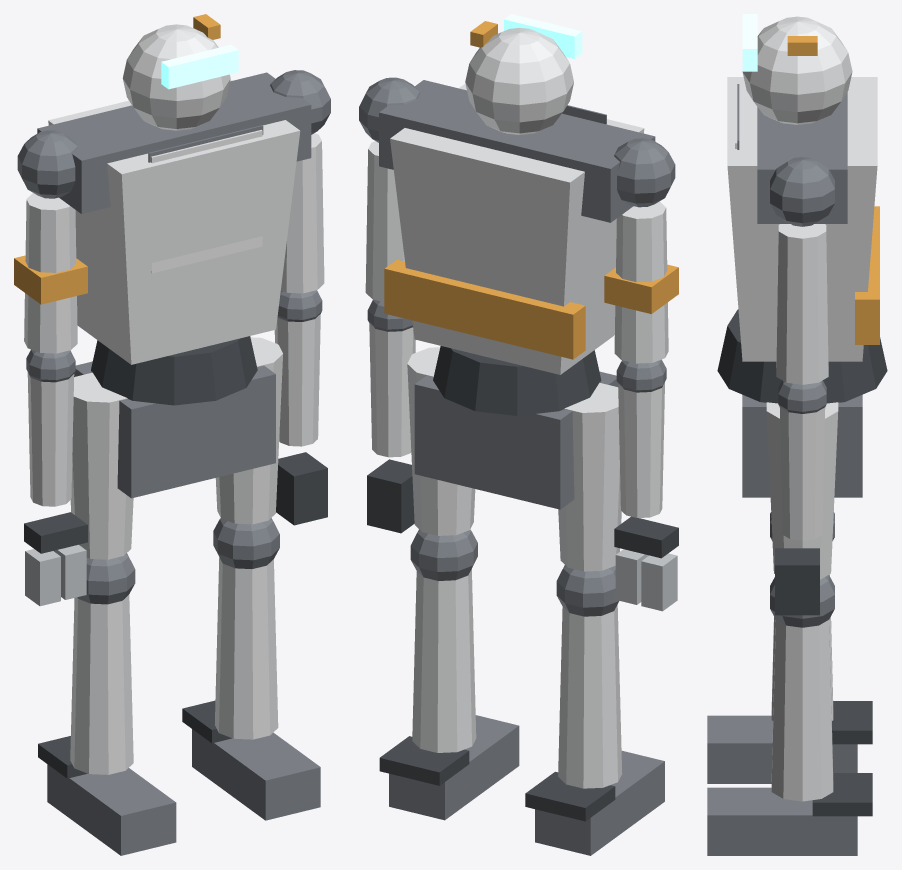
File: enemy_android.glb
3 renders of one model, left to right at view 1: azimuth 30°, elevation 25°; view 2: azimuth 150°, elevation 25°; view 3: azimuth 270°, elevation 25°, orthographic.
Visible parts, largest first — view 1: humanoid-android, arm-left/shell, arm-left/graphite, arm-left/steel, arm-left/orange, arm-left/rubber; view 2: humanoid-android, arm-left/shell, arm-left/graphite, arm-left/steel, arm-left/orange, arm-left/rubber; view 3: humanoid-android.
Boxes of the visible parts, x1,y1,x2,y2 form: humanoid-android: (37, 14, 330, 855); arm-left/shell: (24, 193, 77, 506); arm-left/graphite: (17, 130, 78, 382); arm-left/steel: (25, 544, 86, 606); arm-left/orange: (14, 255, 87, 304); arm-left/rubber: (24, 512, 87, 553); humanoid-android: (359, 14, 664, 855); arm-left/shell: (614, 201, 668, 517); arm-left/graphite: (614, 138, 675, 392); arm-left/steel: (615, 549, 677, 611); arm-left/orange: (604, 264, 678, 313); arm-left/rubber: (614, 516, 678, 558); humanoid-android: (707, 14, 887, 855).
Bounding box in the file's own units: 0.7165 × 1.73 × 0.36.
